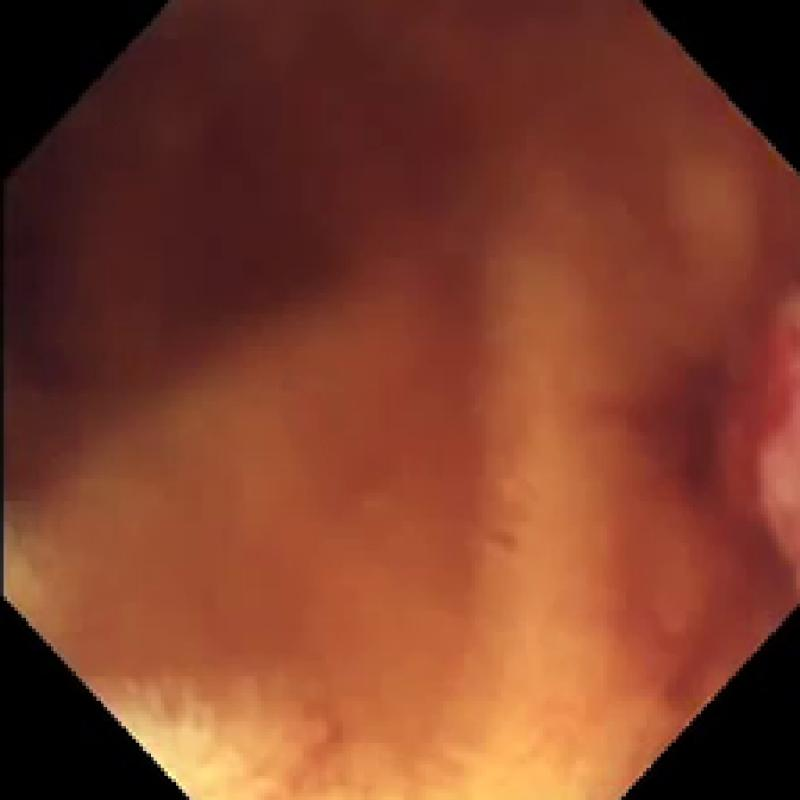bleeding: (404, 107, 639, 279)
